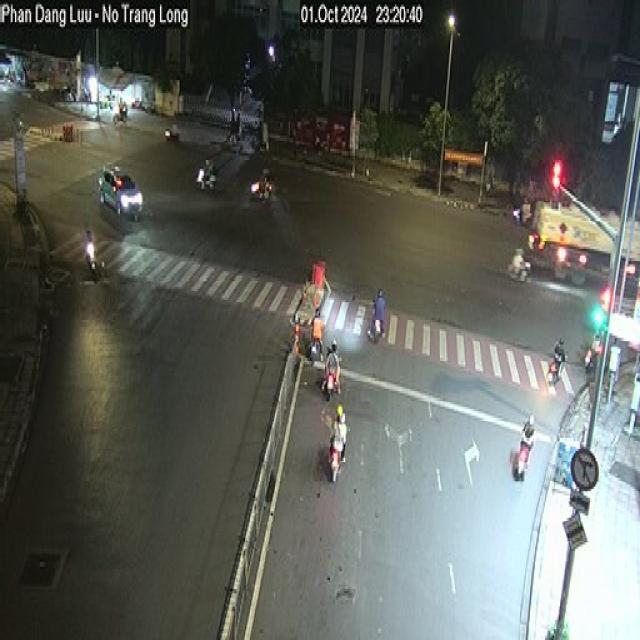car: (98, 162, 142, 220)
